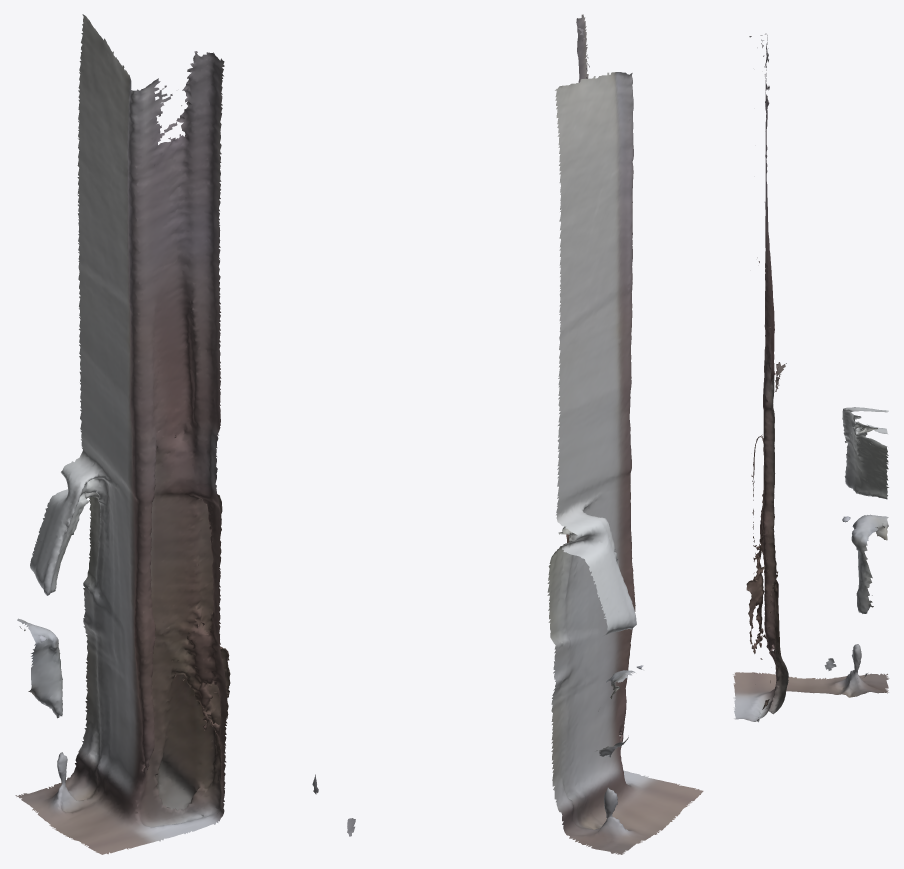
File: apartment-full-122-a236729be109.glb
The picture shows the model from 3 angles, left to right: view 1: azimuth 30°, elevation 25°; view 2: azimuth 150°, elevation 25°; view 3: azimuth 270°, elevation 25°; orthographic projection. The views are drawn at different scales.
Size of the model in its own units: 0.858 by 2.33 by 0.447.
